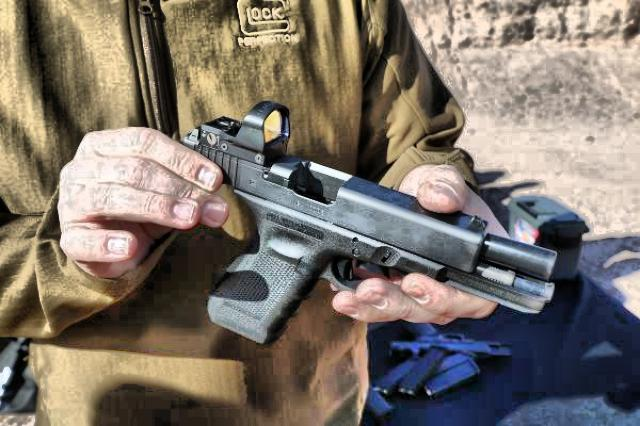pistol: (151, 82, 561, 344)
